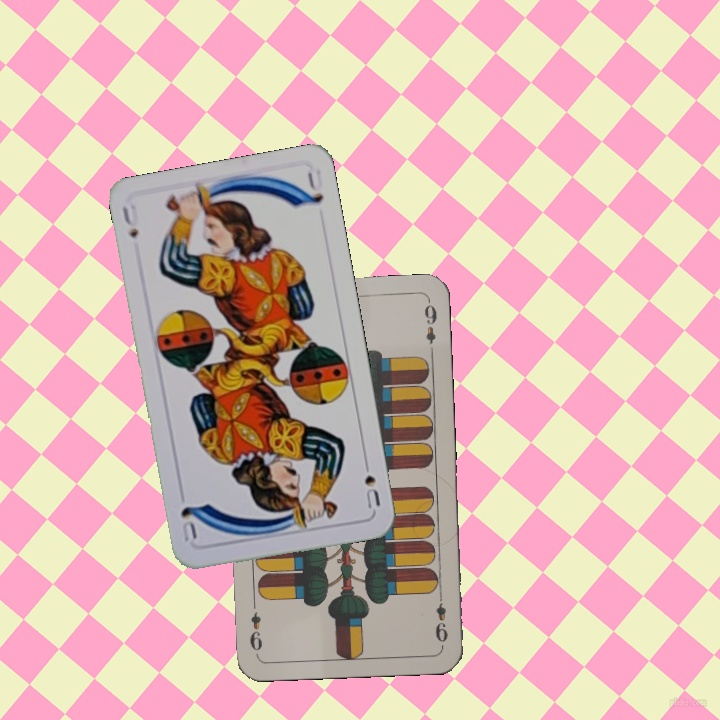E9: (431, 589, 450, 645)
SU: (359, 454, 383, 511), (118, 201, 141, 241)
